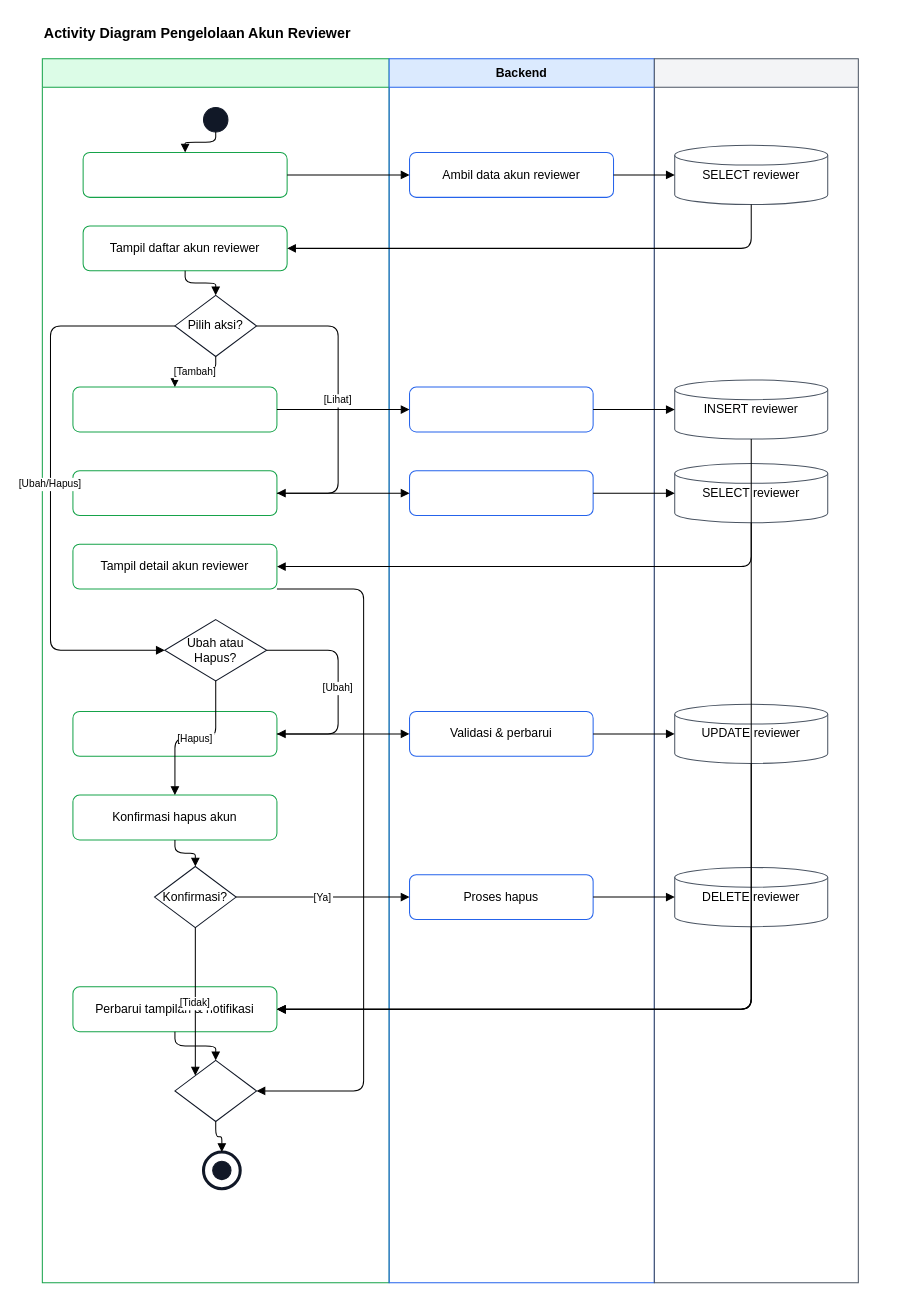
This 916x1301 diagram has some shape labels left out. Here are the shapes that lost their labels. From the top down, the box of each, then its label:
(82, 151, 287, 197): Buka halaman akun reviewer
(72, 386, 277, 432): Form tambah akun reviewer
(409, 386, 593, 432): Validasi & simpan
(72, 470, 277, 516): Lihat detail akun reviewer
(409, 470, 593, 516): Ambil detail akun reviewer
(41, 58, 389, 1283): Frontend
(653, 58, 858, 1283): Basis Data
(72, 710, 277, 756): Form ubah akun reviewer
